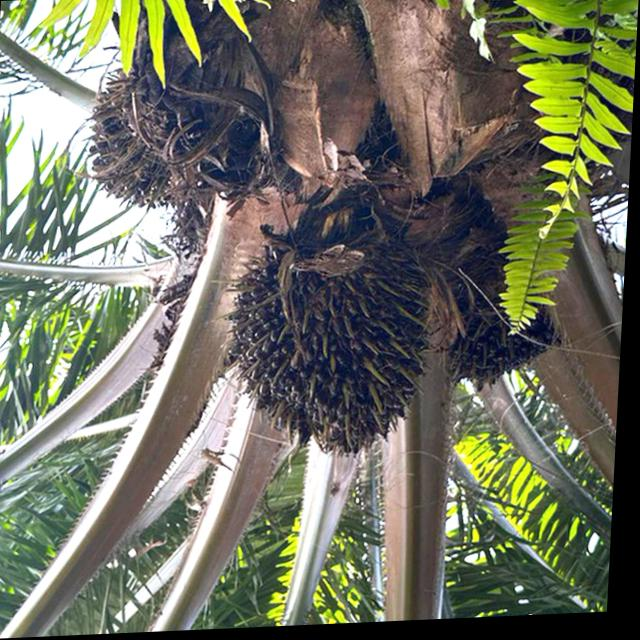almost: (201, 223, 453, 475)
